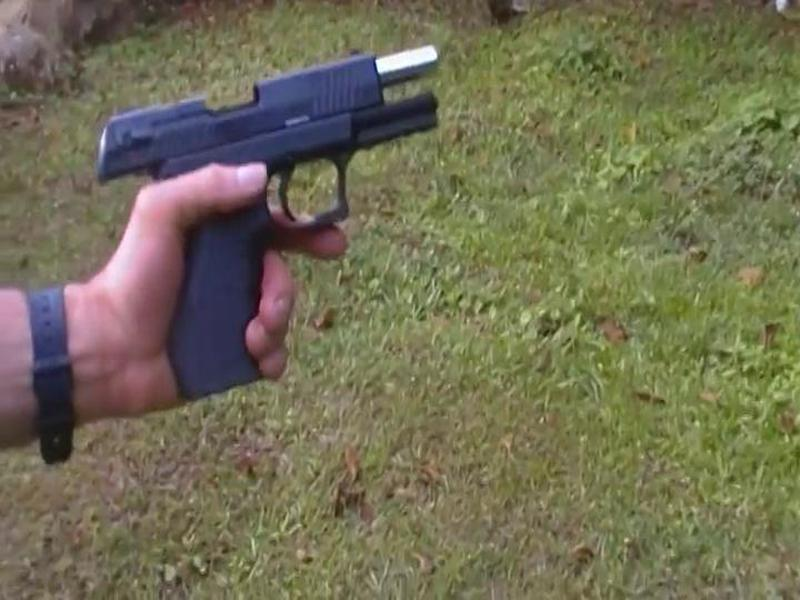Pistola: (92, 58, 465, 399)
